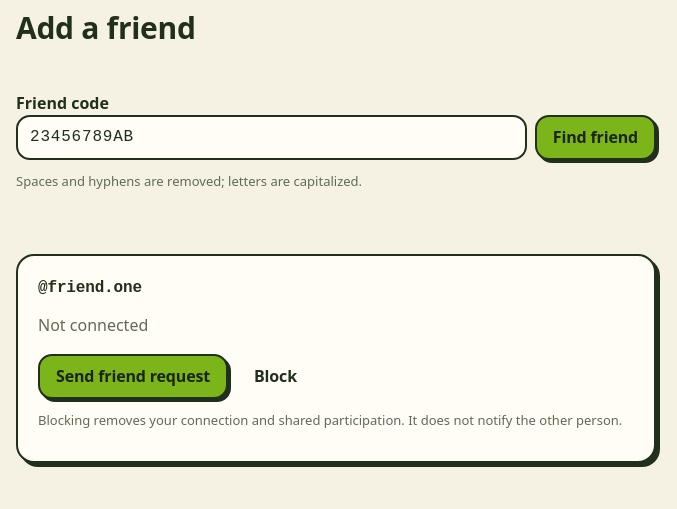
it: AddFriendPageTests Slice 8 actions › SendAndBlock_InvalidateCanonicalCodeAndReconcileActionCard_D031
The image size is (677, 509).
Click the button "Send friend request" at (133, 376), box [38,354,228,399]
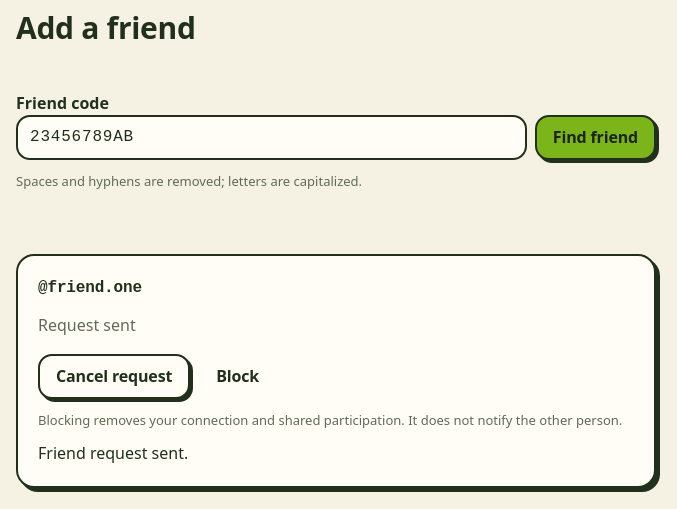
Now the button "Cancel request" is shown, box [38,354,190,399]
Click the button "Block" at (238, 376), box [198,354,277,399]
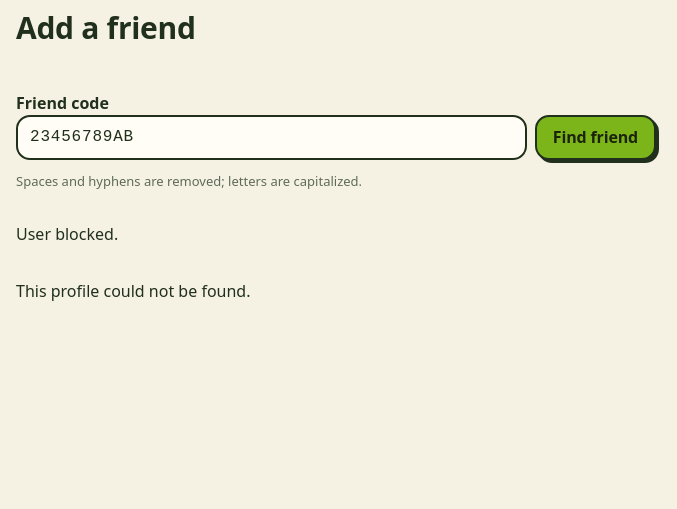
Now the text "This profile could not be found." is shown, box [16,280,250,302]
Now the heading "@friend.one" is gone
